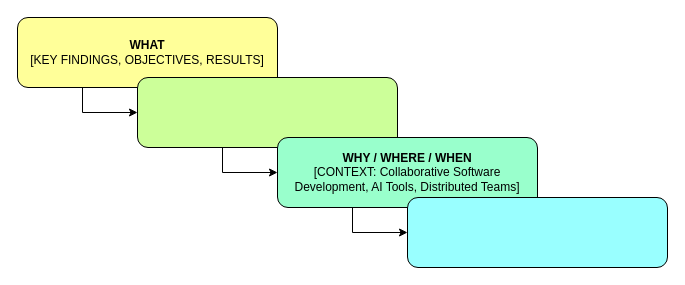
Image size: 685x285. Some labels were removed from this diagram. Each missing label, with the centre of its shape:
"HOW [METHODOLOGY: Systematic Mapping Study]" goes at point 267,112.
"SO WHAT [CONCLUSIONS: Implications, Contributions to Knowledge and Practice]" goes at point 537,232.
